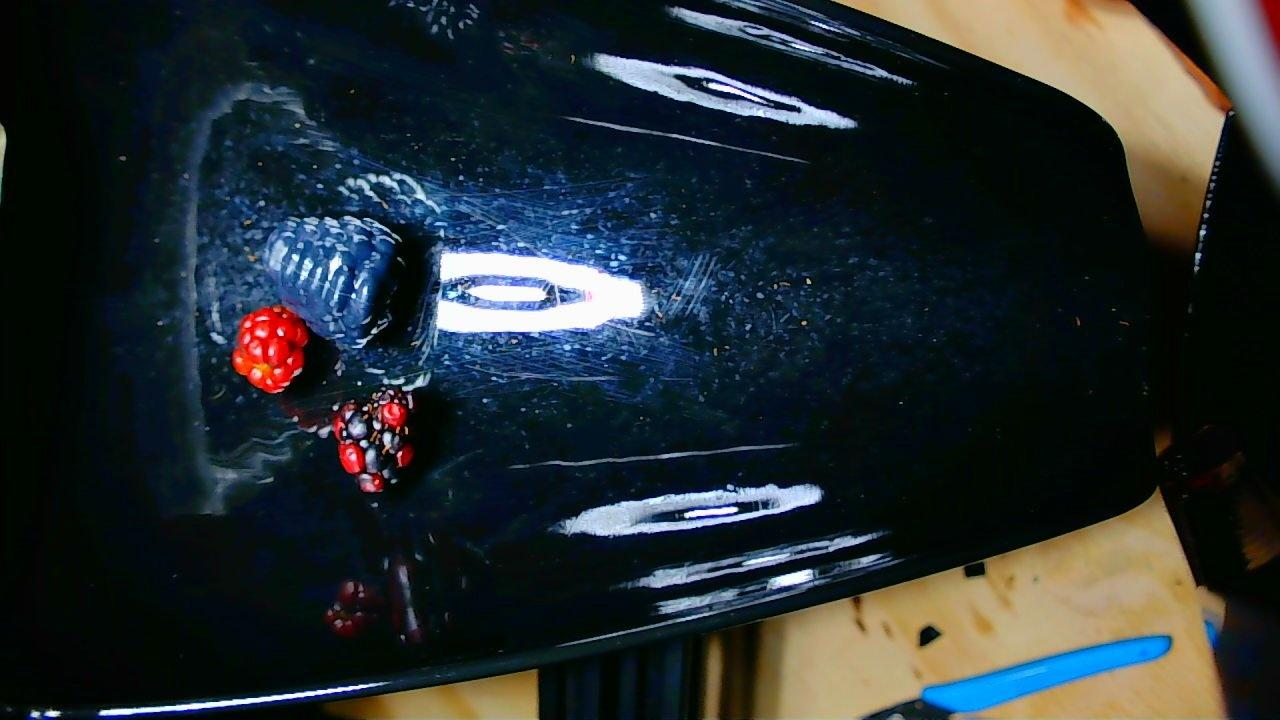berry: (263, 216, 402, 347), (332, 387, 415, 493), (232, 306, 309, 393)
